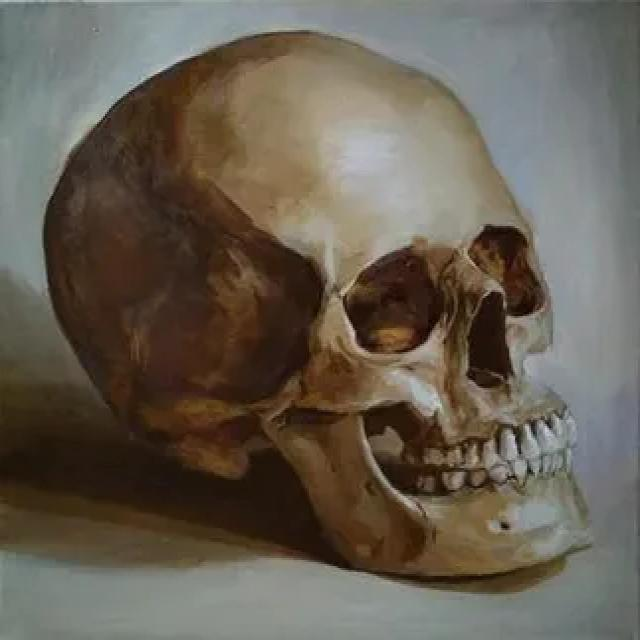skull: (29, 26, 605, 594)
